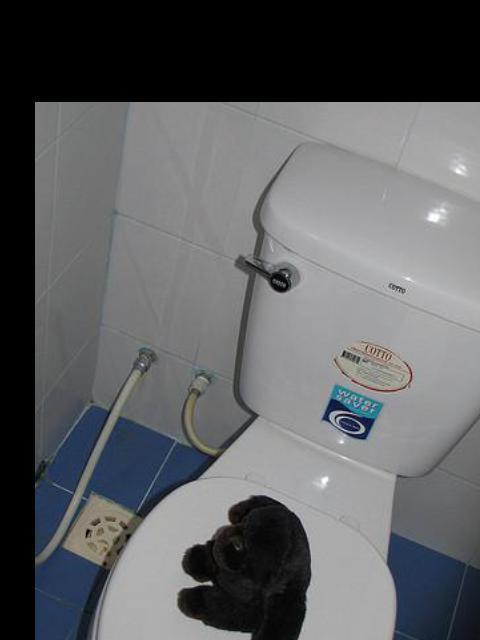Sanitario: (75, 140, 480, 640)
